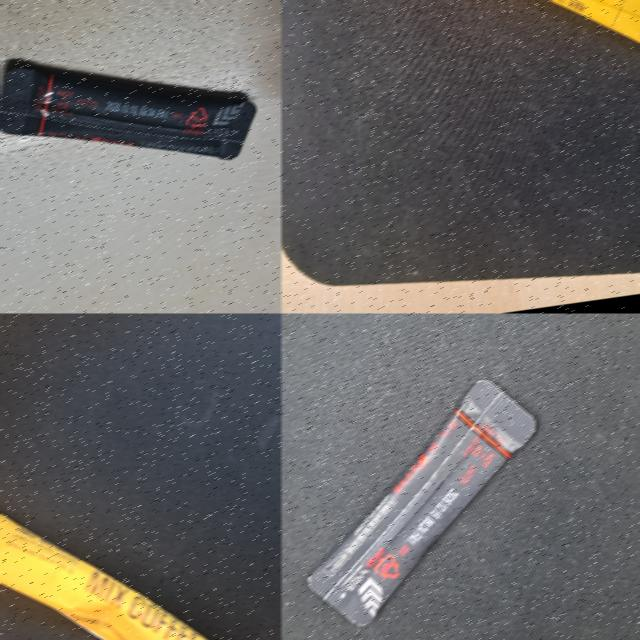KANU: (280, 357, 570, 640), (0, 3, 281, 208)
mix_coffee: (0, 419, 281, 640), (280, 0, 640, 119)
